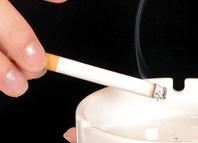smoke: (44, 50, 167, 101)
